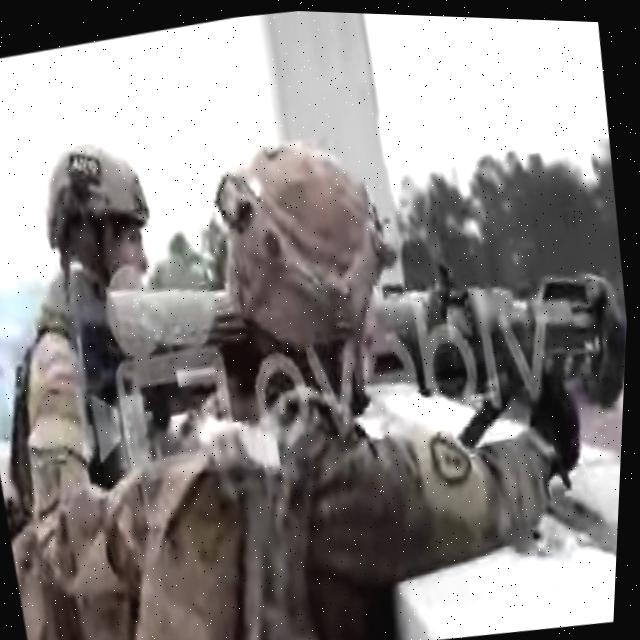rocket: (361, 236, 632, 456)
